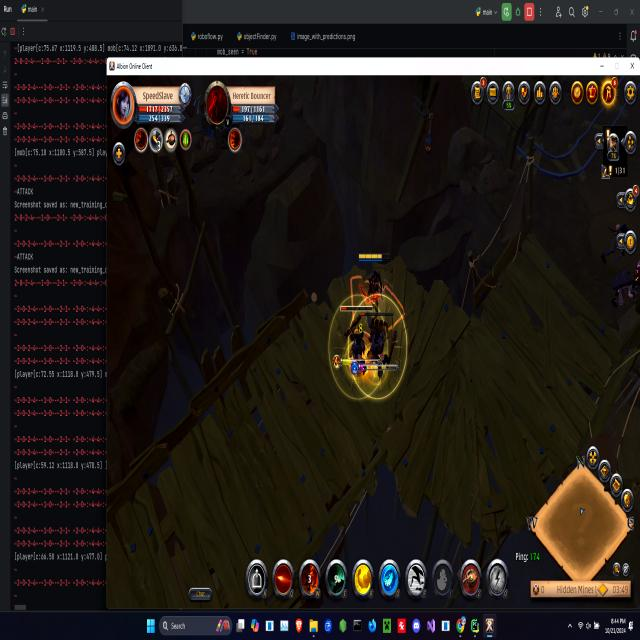ore: (340, 298, 379, 382), (599, 219, 632, 269), (609, 266, 638, 320)
red: (356, 250, 388, 309)
silver: (346, 271, 407, 355)
